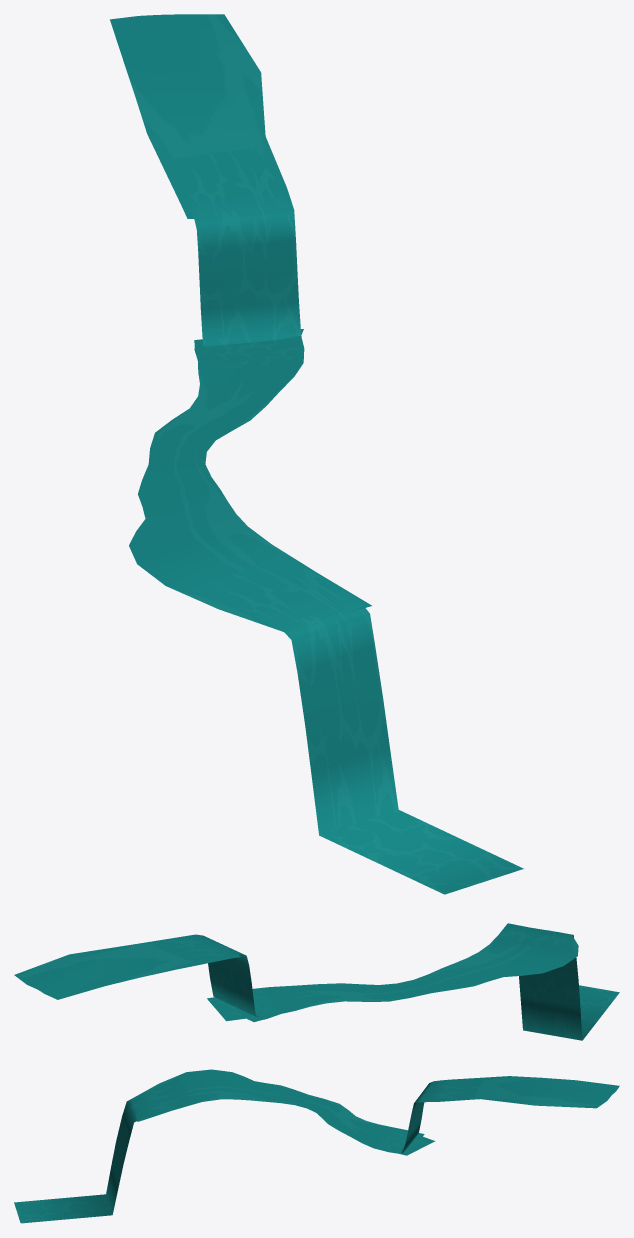
3 views of the same model, one above another, from view 1: azimuth 30°, elevation 25°; view 2: azimuth 150°, elevation 25°; view 3: azimuth 270°, elevation 25° (orthographic). The views are drawn at different scales.
Visible parts, largest first — view 1: Mesh_12; view 2: Mesh_12; view 3: Mesh_12.
Boxes of the visible parts, box(x1,y1,x2,y2) form: Mesh_12: box(110, 14, 523, 894); Mesh_12: box(14, 923, 619, 1040); Mesh_12: box(14, 1069, 619, 1223).
Size of the model in its own units: 8.96 by 6.64 by 19.9.
